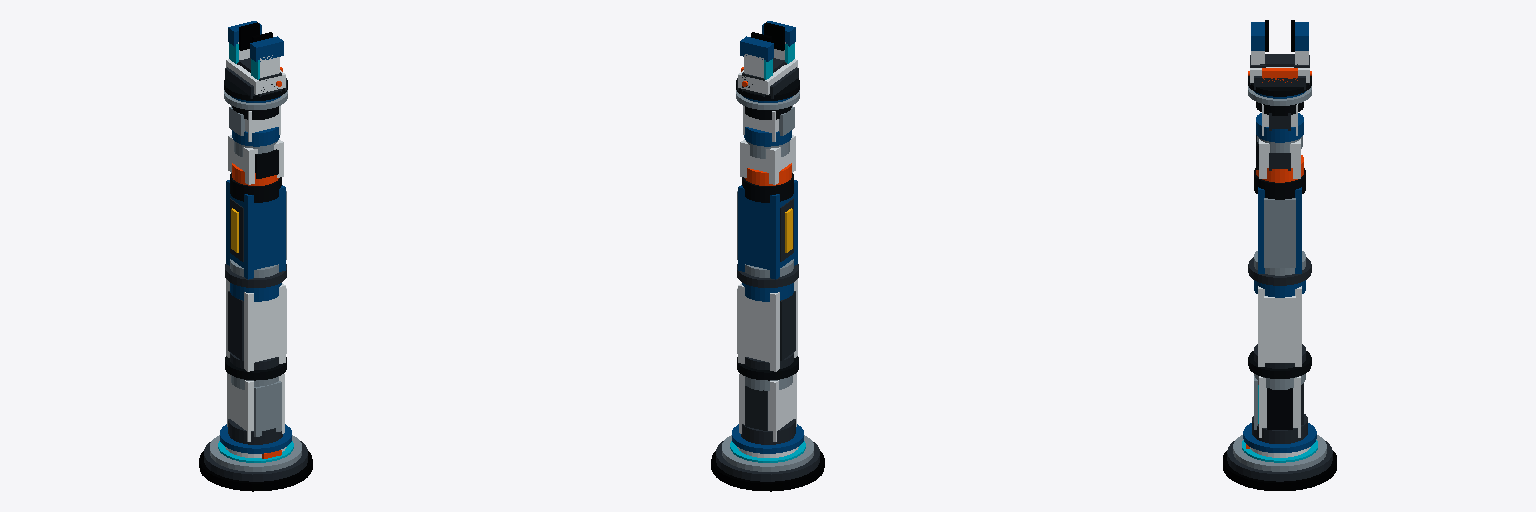
URDF robot description (marm):
<?xml version="1.0" ?>
<!-- =================================================================================== -->
<!-- |    This document was autogenerated by xacro from src/marm_description/urdf/marm.xacro | -->
<!-- |    EDITING THIS FILE BY HAND IS NOT RECOMMENDED                                 | -->
<!-- =================================================================================== -->
<robot name="marm">
  <!-- Industrial palette inspired by UR, Franka, OpenMANIPULATOR and KUKA. -->
  <material name="Graphite">
    <color rgba="0.055 0.070 0.085 1"/>
  </material>
  <material name="Gunmetal">
    <color rgba="0.16 0.19 0.22 1"/>
  </material>
  <material name="PearlWhite">
    <color rgba="0.88 0.91 0.93 1"/>
  </material>
  <material name="Aluminium">
    <color rgba="0.52 0.58 0.62 1"/>
  </material>
  <material name="OceanBlue">
    <color rgba="0.02 0.30 0.52 1"/>
  </material>
  <material name="ElectricCyan">
    <color rgba="0.00 0.72 0.82 1"/>
  </material>
  <material name="SafetyOrange">
    <color rgba="1.00 0.30 0.035 1"/>
  </material>
  <material name="SignalYellow">
    <color rgba="1.00 0.73 0.06 1"/>
  </material>
  <material name="RubberBlack">
    <color rgba="0.018 0.022 0.026 1"/>
  </material>
  <!-- /////////////////////////////////////   ARM BASE    ////////////////////////////////////////////// -->
  <link name="base_link">
    <visual>
      <origin rpy="0 0 0" xyz="0 0 -0.006"/>
      <geometry>
        <cylinder length="0.012" radius="0.078"/>
      </geometry>
      <material name="RubberBlack"/>
    </visual>
    <visual>
      <origin rpy="0 0 0" xyz="0 0 0.004"/>
      <geometry>
        <cylinder length="0.014" radius="0.072"/>
      </geometry>
      <material name="Gunmetal"/>
    </visual>
    <visual>
      <origin rpy="0 0 0" xyz="0 0 0.014"/>
      <geometry>
        <cylinder length="0.01" radius="0.064"/>
      </geometry>
      <material name="Aluminium"/>
    </visual>
    <visual>
      <origin rpy="0 0 0" xyz="0 0 0.020"/>
      <geometry>
        <cylinder length="0.004" radius="0.052"/>
      </geometry>
      <material name="ElectricCyan"/>
    </visual>
  </link>
  <joint name="base_joint" type="fixed">
    <origin rpy="0 0 0" xyz="0 0 0.02"/>
    <parent link="base_link"/>
    <child link="link0"/>
  </joint>
  <!-- /////////////////////////////////////    LINK0    ////////////////////////////////////////////// -->
  <link name="link0">
    <visual>
      <origin rpy="0 0 0" xyz="0 0 0"/>
      <geometry>
        <cylinder length="0.032" radius="0.043"/>
      </geometry>
      <material name="PearlWhite"/>
    </visual>
    <visual>
      <origin rpy="0 0 0" xyz="0 0 -0.016"/>
      <geometry>
        <cylinder length="0.008" radius="0.05"/>
      </geometry>
      <material name="Graphite"/>
    </visual>
    <visual>
      <origin rpy="0 0 0" xyz="0 0 0.016"/>
      <geometry>
        <cylinder length="0.008" radius="0.05"/>
      </geometry>
      <material name="OceanBlue"/>
    </visual>
    <visual>
      <origin rpy="0 0 0" xyz="0 -0.043 0"/>
      <geometry>
        <box size="0.028 0.006 0.020"/>
      </geometry>
      <material name="SafetyOrange"/>
    </visual>
    <visual>
      <origin rpy="0 0 0" xyz="0 0.030 0.004"/>
      <geometry>
        <box size="0.034 0.018 0.026"/>
      </geometry>
      <material name="Gunmetal"/>
    </visual>
    <visual>
      <origin rpy="0 0 0" xyz="0 0.030 0.018"/>
      <geometry>
        <box size="0.022 0.006 0.010"/>
      </geometry>
      <material name="Aluminium"/>
    </visual>
    <collision>
      <origin rpy="0 0 0" xyz="0 0 0"/>
      <geometry>
        <cylinder length="0.04" radius="0.05"/>
      </geometry>
    </collision>
    <cylinder_inertial_matrix h="0.04" m="1" r="0.05"/>
  </link>
  <joint name="joint1" type="revolute">
    <parent link="link0"/>
    <child link="link1"/>
    <origin rpy="0 1.570795 0" xyz="0 0 0.02"/>
    <axis xyz="-1 0 0"/>
    <limit effort="300" lower="-3.14159" upper="3.14159" velocity="1"/>
  </joint>
  <!-- /////////////////////////////////////   LINK1  ////////////////////////////////////////////// -->
  <link name="link1">
    <visual>
      <origin rpy="0 0 0" xyz="-0.05 0 0"/>
      <geometry>
        <box size="0.090 0.058 0.058"/>
      </geometry>
      <material name="PearlWhite"/>
    </visual>
    <visual>
      <origin rpy="0 1.570795 0" xyz="-0.010 0 0"/>
      <geometry>
        <cylinder length="0.02" radius="0.038"/>
      </geometry>
      <material name="Gunmetal"/>
    </visual>
    <visual>
      <origin rpy="0 1.570795 0" xyz="-0.090 0 0"/>
      <geometry>
        <cylinder length="0.02" radius="0.035"/>
      </geometry>
      <material name="Aluminium"/>
    </visual>
    <visual>
      <origin rpy="0 0 0" xyz="-0.05 -0.026 0.008"/>
      <geometry>
        <box size="0.058 0.008 0.018"/>
      </geometry>
      <material name="ElectricCyan"/>
    </visual>
    <visual>
      <origin rpy="0 0 0" xyz="-0.05 0.026 -0.008"/>
      <geometry>
        <box size="0.042 0.006 0.012"/>
      </geometry>
      <material name="SafetyOrange"/>
    </visual>
    <visual>
      <origin rpy="0 0 0" xyz="-0.05 0.030 0"/>
      <geometry>
        <box size="0.062 0.006 0.034"/>
      </geometry>
      <material name="Gunmetal"/>
    </visual>
    <visual>
      <origin rpy="0 0 0" xyz="-0.05 -0.033 0"/>
      <geometry>
        <box size="0.074 0.006 0.042"/>
      </geometry>
      <material name="Aluminium"/>
    </visual>
    <visual>
      <origin rpy="0 0 0" xyz="-0.050 0 0.030"/>
      <geometry>
        <box size="0.062 0.036 0.006"/>
      </geometry>
      <material name="Graphite"/>
    </visual>
    <collision>
      <origin rpy="0 1.570795 0" xyz="-0.05 0 0"/>
      <geometry>
        <cylinder length="0.1" radius="0.03"/>
      </geometry>
    </collision>
    <cylinder_inertial_matrix h="0.1" m="1" r="0.03"/>
  </link>
  <joint name="joint2" type="revolute">
    <parent link="link1"/>
    <child link="link2"/>
    <origin rpy="-1.570795 0 1.570795" xyz="-0.1 0 0.0"/>
    <axis xyz="1 0 0"/>
    <limit effort="300" lower="-3.14159" upper="3.14159" velocity="1"/>
  </joint>
  <!-- ///////////////////////////////////////   LINK2  ////////////////////////////////////////////// -->
  <link name="link2">
    <visual>
      <origin rpy="0 0 0" xyz="0 0 0.07"/>
      <geometry>
        <box size="0.060 0.060 0.118"/>
      </geometry>
      <material name="PearlWhite"/>
    </visual>
    <visual>
      <origin rpy="0 0 0" xyz="0 0 0.012"/>
      <geometry>
        <cylinder length="0.024" radius="0.036"/>
      </geometry>
      <material name="Gunmetal"/>
    </visual>
    <visual>
      <origin rpy="0 0 0" xyz="0 0 0.128"/>
      <geometry>
        <cylinder length="0.024" radius="0.036"/>
      </geometry>
      <material name="OceanBlue"/>
    </visual>
    <visual>
      <origin rpy="0 0 0" xyz="0 0 0.006"/>
      <geometry>
        <cylinder length="0.012" radius="0.043"/>
      </geometry>
      <material name="Graphite"/>
    </visual>
    <visual>
      <origin rpy="0 0 0" xyz="0 -0.027 0.07"/>
      <geometry>
        <box size="0.036 0.009 0.076"/>
      </geometry>
      <material name="Aluminium"/>
    </visual>
    <visual>
      <origin rpy="0 0 0" xyz="0 -0.033 0.07"/>
      <geometry>
        <box size="0.020 0.004 0.052"/>
      </geometry>
      <material name="SafetyOrange"/>
    </visual>
    <visual>
      <origin rpy="0 0 0" xyz="0 0.030 0.07"/>
      <geometry>
        <box size="0.038 0.006 0.090"/>
      </geometry>
      <material name="Gunmetal"/>
    </visual>
    <visual>
      <origin rpy="0 0 0" xyz="0 -0.034 0.07"/>
      <geometry>
        <box size="0.044 0.006 0.098"/>
      </geometry>
      <material name="PearlWhite"/>
    </visual>
    <visual>
      <origin rpy="0 0 0" xyz="0 0 0.13"/>
      <geometry>
        <box size="0.046 0.040 0.010"/>
      </geometry>
      <material name="Aluminium"/>
    </visual>
    <collision>
      <origin rpy="0 0 0" xyz="0 0 0.07"/>
      <geometry>
        <cylinder length="0.14" radius="0.03"/>
      </geometry>
    </collision>
    <cylinder_inertial_matrix h="0.14" m="0.8" r="0.03"/>
  </link>
  <joint name="joint3" type="revolute">
    <parent link="link2"/>
    <child link="link3"/>
    <origin rpy="0 3.14159 0" xyz="0 0 0.14"/>
    <axis xyz="-1 0 0"/>
    <limit effort="300" lower="-3.14159" upper="3.14159" velocity="1"/>
  </joint>
  <!-- /////////////////////////////////   LINK3  ///////////////////////////////////////////////////// -->
  <link name="link3">
    <visual>
      <origin rpy="0 0 0" xyz="0 0 -0.075"/>
      <geometry>
        <box size="0.060 0.060 0.126"/>
      </geometry>
      <material name="OceanBlue"/>
    </visual>
    <visual>
      <origin rpy="0 0 0" xyz="0 0 -0.012"/>
      <geometry>
        <cylinder length="0.024" radius="0.036"/>
      </geometry>
      <material name="Aluminium"/>
    </visual>
    <visual>
      <origin rpy="0 0 0" xyz="0 0 -0.138"/>
      <geometry>
        <cylinder length="0.024" radius="0.036"/>
      </geometry>
      <material name="Graphite"/>
    </visual>
    <visual>
      <origin rpy="0 0 0" xyz="0 0 -0.006"/>
      <geometry>
        <cylinder length="0.012" radius="0.043"/>
      </geometry>
      <material name="Gunmetal"/>
    </visual>
    <visual>
      <origin rpy="0 0 0" xyz="0 0.027 -0.075"/>
      <geometry>
        <box size="0.036 0.009 0.082"/>
      </geometry>
      <material name="Gunmetal"/>
    </visual>
    <visual>
      <origin rpy="0 0 0" xyz="0 0.033 -0.075"/>
      <geometry>
        <box size="0.018 0.004 0.060"/>
      </geometry>
      <material name="SignalYellow"/>
    </visual>
    <visual>
      <origin rpy="0 0 0" xyz="0 -0.030 -0.075"/>
      <geometry>
        <box size="0.038 0.006 0.094"/>
      </geometry>
      <material name="PearlWhite"/>
    </visual>
    <visual>
      <origin rpy="0 0 0" xyz="0 -0.034 -0.075"/>
      <geometry>
        <box size="0.044 0.006 0.102"/>
      </geometry>
      <material name="Aluminium"/>
    </visual>
    <visual>
      <origin rpy="0 0 0" xyz="0 0 -0.13999999999999999"/>
      <geometry>
        <box size="0.046 0.040 0.010"/>
      </geometry>
      <material name="Graphite"/>
    </visual>
    <collision>
      <origin rpy="0 0 0" xyz="0 0 -0.075"/>
      <geometry>
        <cylinder length="0.15" radius="0.03"/>
      </geometry>
    </collision>
    <cylinder_inertial_matrix h="0.15" m="0.8" r="0.03"/>
  </link>
  <joint name="joint4" type="revolute">
    <parent link="link3"/>
    <child link="link4"/>
    <origin rpy="0 1.570795 3.14159" xyz="0.0 0.0 -0.15"/>
    <axis xyz="1 0 0"/>
    <limit effort="300" lower="-3.14159" upper="3.14159" velocity="1"/>
  </joint>
  <!-- ///////////////////////////////////   LINK4  //////////////////////////////////////////////// -->
  <link name="link4">
    <visual>
      <origin rpy="0 0 0" xyz="0.03 0 0"/>
      <geometry>
        <box size="0.052 0.056 0.056"/>
      </geometry>
      <material name="PearlWhite"/>
    </visual>
    <visual>
      <origin rpy="0 1.570795 0" xyz="0.010 0 0"/>
      <geometry>
        <cylinder length="0.02" radius="0.033"/>
      </geometry>
      <material name="SafetyOrange"/>
    </visual>
    <visual>
      <origin rpy="0 1.570795 0" xyz="0.050 0 0"/>
      <geometry>
        <cylinder length="0.02" radius="0.031"/>
      </geometry>
      <material name="Aluminium"/>
    </visual>
    <visual>
      <origin rpy="0 0 0" xyz="0.03 -0.024 0"/>
      <geometry>
        <box size="0.026 0.006 0.018"/>
      </geometry>
      <material name="ElectricCyan"/>
    </visual>
    <visual>
      <origin rpy="0 0 0" xyz="0.03 0.028 0"/>
      <geometry>
        <box size="0.026 0.006 0.030"/>
      </geometry>
      <material name="Gunmetal"/>
    </visual>
    <visual>
      <origin rpy="0 0 0" xyz="0.03 0 -0.030"/>
      <geometry>
        <box size="0.036 0.034 0.006"/>
      </geometry>
      <material name="Graphite"/>
    </visual>
    <collision>
      <origin rpy="0 1.570795 0" xyz="0.03 0 0"/>
      <geometry>
        <cylinder length="0.06" radius="0.025"/>
      </geometry>
    </collision>
    <cylinder_inertial_matrix h="0.06" m="0.7" r="0.025"/>
  </link>
  <joint name="joint5" type="revolute">
    <parent link="link4"/>
    <child link="link5"/>
    <origin rpy="0 1.570795 0" xyz="0.06 0.0 0.0"/>
    <axis xyz="1 0 0"/>
    <limit effort="300" lower="-3.14159" upper="3.14159" velocity="1"/>
  </joint>
  <!-- //////////////////////////////////   LINK5  ///////////////////////////////////////////////// -->
  <link name="link5">
    <visual>
      <origin rpy="0 0 0" xyz="0 0 0.03"/>
      <geometry>
        <box size="0.050 0.050 0.046"/>
      </geometry>
      <material name="PearlWhite"/>
    </visual>
    <visual>
      <origin rpy="0 0 0" xyz="0 0 0.010"/>
      <geometry>
        <cylinder length="0.02" radius="0.033"/>
      </geometry>
      <material name="OceanBlue"/>
    </visual>
    <visual>
      <origin rpy="0 0 0" xyz="0 0 0.050"/>
      <geometry>
        <cylinder length="0.02" radius="0.033"/>
      </geometry>
      <material name="Graphite"/>
    </visual>
    <visual>
      <origin rpy="0 0 0" xyz="0 -0.025 0.03"/>
      <geometry>
        <box size="0.018 0.006 0.026"/>
      </geometry>
      <material name="SafetyOrange"/>
    </visual>
    <visual>
      <origin rpy="0 0 0" xyz="0 0.028 0.03"/>
      <geometry>
        <box size="0.030 0.006 0.026"/>
      </geometry>
      <material name="Gunmetal"/>
    </visual>
    <visual>
      <origin rpy="0 0 0" xyz="0 -0.030 0.03"/>
      <geometry>
        <box size="0.032 0.006 0.032"/>
      </geometry>
      <material name="Aluminium"/>
    </visual>
    <visual>
      <origin rpy="0 0 0" xyz="0 0 0.054"/>
      <geometry>
        <box size="0.042 0.040 0.008"/>
      </geometry>
      <material name="Graphite"/>
    </visual>
    <collision>
      <origin rpy="0 0 0" xyz="0 0 0.03 "/>
      <geometry>
        <cylinder length="0.06" radius="0.03"/>
      </geometry>
    </collision>
    <cylinder_inertial_matrix h="0.06" m="0.7" r="0.03"/>
  </link>
  <joint name="joint6" type="revolute">
    <parent link="link5"/>
    <child link="link6"/>
    <origin rpy="4.712384999999999 -1.570795 0" xyz="0 0 0.06"/>
    <axis xyz="1 0 0"/>
    <limit effort="300" lower="-6.28318" upper="6.28318" velocity="1"/>
  </joint>
  <!-- ////////////////////////////////   LINK6  ///////////////////////////////////////////////// -->
  <link name="link6">
    <visual>
      <origin rpy="0 1.570795 0" xyz="0.01 0 0"/>
      <geometry>
        <cylinder length="0.02" radius="0.038"/>
      </geometry>
      <material name="OceanBlue"/>
    </visual>
    <visual>
      <origin rpy="0 1.570795 0" xyz="0.004 0 0"/>
      <geometry>
        <cylinder length="0.008" radius="0.044"/>
      </geometry>
      <material name="Aluminium"/>
    </visual>
    <visual>
      <origin rpy="0 1.570795 0" xyz="0.018 0 0"/>
      <geometry>
        <cylinder length="0.008" radius="0.044"/>
      </geometry>
      <material name="Graphite"/>
    </visual>
    <visual>
      <origin rpy="0 0 0" xyz="0.027 0 0"/>
      <geometry>
        <box size="0.018 0.072 0.058"/>
      </geometry>
      <material name="Gunmetal"/>
    </visual>
    <visual>
      <origin rpy="0 0 0" xyz="0.037 0 0.025"/>
      <geometry>
        <box size="0.018 0.050 0.008"/>
      </geometry>
      <material name="SafetyOrange"/>
    </visual>
    <visual>
      <origin rpy="0 0 0" xyz="0.035 0 0"/>
      <geometry>
        <box size="0.020 0.082 0.048"/>
      </geometry>
      <material name="PearlWhite"/>
    </visual>
    <visual>
      <origin rpy="0 0 0" xyz="0.046 0 0"/>
      <geometry>
        <box size="0.008 0.054 0.032"/>
      </geometry>
      <material name="Gunmetal"/>
    </visual>
    <collision>
      <origin rpy="0 1.570795 0" xyz="0.01 0 0"/>
      <geometry>
        <cylinder length="0.02" radius="0.04"/>
      </geometry>
    </collision>
    <cylinder_inertial_matrix h="0.02" m="0.6" r="0.04"/>
  </link>
  <joint name="finger_joint1" type="prismatic">
    <parent link="link6"/>
    <child link="gripper_finger_link1"/>
    <origin rpy="0 0 0" xyz="0.02 -0.03 0"/>
    <axis xyz="0 1 0"/>
    <limit effort="100" lower="0" upper="0.06" velocity="0.02"/>
  </joint>
  <!-- //////////////////////////////////////   gripper   ////////////////////////////////////////////// -->
  <!-- LEFT GRIPPER AFT LINK -->
  <link name="gripper_finger_link1">
    <visual>
      <origin rpy="0 0 0" xyz="0.014 0 0"/>
      <geometry>
        <box size="0.028 0.022 0.036"/>
      </geometry>
      <material name="Gunmetal"/>
    </visual>
    <visual>
      <origin rpy="0 0 0" xyz="0.041 0 0"/>
      <geometry>
        <box size="0.034 0.018 0.032"/>
      </geometry>
      <material name="PearlWhite"/>
    </visual>
    <visual>
      <origin rpy="0 0 0" xyz="0.064 0 0"/>
      <geometry>
        <box size="0.022 0.018 0.044"/>
      </geometry>
      <material name="OceanBlue"/>
    </visual>
    <visual>
      <origin rpy="0 0 0" xyz="0.064 0.012 0"/>
      <geometry>
        <box size="0.034 0.006 0.030"/>
      </geometry>
      <material name="RubberBlack"/>
    </visual>
    <visual>
      <origin rpy="0 0 0" xyz="0.041 0 -0.018"/>
      <geometry>
        <box size="0.030 0.020 0.004"/>
      </geometry>
      <material name="ElectricCyan"/>
    </visual>
    <visual>
      <origin rpy="1.570795 0 0" xyz="0.014 -0.012 0.012"/>
      <geometry>
        <cylinder length="0.004" radius="0.004"/>
      </geometry>
      <material name="SafetyOrange"/>
    </visual>
    <collision>
      <origin rpy="0 1.570795 0" xyz="0.03 0 0"/>
      <geometry>
        <box size="0.03 0.01 0.06"/>
      </geometry>
    </collision>
    <box_inertial_matrix d="0.03" h="0.06" m="0.5" w="0.01"/>
  </link>
  <joint name="finger_joint2" type="fixed">
    <parent link="link6"/>
    <child link="gripper_finger_link2"/>
    <origin rpy="0 0 0" xyz="0.02 0.03 0"/>
  </joint>
  <!-- RIGHT GRIPPER AFT LINK -->
  <link name="gripper_finger_link2">
    <visual>
      <origin rpy="0 0 0" xyz="0.014 0 0"/>
      <geometry>
        <box size="0.028 0.022 0.036"/>
      </geometry>
      <material name="Gunmetal"/>
    </visual>
    <visual>
      <origin rpy="0 0 0" xyz="0.041 0 0"/>
      <geometry>
        <box size="0.034 0.018 0.032"/>
      </geometry>
      <material name="PearlWhite"/>
    </visual>
    <visual>
      <origin rpy="0 0 0" xyz="0.064 0 0"/>
      <geometry>
        <box size="0.022 0.018 0.044"/>
      </geometry>
      <material name="OceanBlue"/>
    </visual>
    <visual>
      <origin rpy="0 0 0" xyz="0.064 -0.012 0"/>
      <geometry>
        <box size="0.034 0.006 0.030"/>
      </geometry>
      <material name="RubberBlack"/>
    </visual>
    <visual>
      <origin rpy="0 0 0" xyz="0.041 0 -0.018"/>
      <geometry>
        <box size="0.030 0.020 0.004"/>
      </geometry>
      <material name="ElectricCyan"/>
    </visual>
    <visual>
      <origin rpy="1.570795 0 0" xyz="0.014 0.012 0.012"/>
      <geometry>
        <cylinder length="0.004" radius="0.004"/>
      </geometry>
      <material name="SafetyOrange"/>
    </visual>
    <collision>
      <origin rpy="0 1.570795 0" xyz="0.03 0 0"/>
      <geometry>
        <box size="0.03 0.01 0.06"/>
      </geometry>
    </collision>
    <box_inertial_matrix d="0.03" h="0.06" m="0.5" w="0.01"/>
  </link>
  <!-- Grasping frame -->
  <link name="grasping_frame"/>
  <joint name="grasping_frame_joint" type="fixed">
    <parent link="link6"/>
    <child link="grasping_frame"/>
    <origin rpy="0 0 0" xyz="0.06 0 0"/>
  </joint>
</robot>

--- Render facts (derived) ---
Views: 3 orthographic renders of the robot side by side, from view 1: azimuth 30°, elevation 25°; view 2: azimuth 150°, elevation 25°; view 3: azimuth 270°, elevation 25°.
Model marm with 11 links and 10 joints (6 revolute, 1 prismatic, 3 fixed), rooted at base_link, posed all joints at 0.
Visible links, largest first — view 1: link3, link2, base_link, link1, link6, link4, link5, gripper_finger_link2, link0, gripper_finger_link1; view 2: link3, link2, base_link, link1, link6, link4, link5, gripper_finger_link1, link0, gripper_finger_link2; view 3: link3, link2, base_link, link1, link6, link4, link5, link0, gripper_finger_link1, gripper_finger_link2.
Boxes of the visible links, x1,y1,x2,y2 form: link3: [225, 173, 286, 287]; link2: [225, 279, 286, 380]; base_link: [199, 435, 312, 491]; link1: [227, 373, 284, 444]; link6: [224, 58, 287, 109]; link4: [228, 135, 283, 185]; link5: [229, 106, 280, 146]; gripper_finger_link2: [250, 32, 283, 96]; link0: [220, 424, 291, 458]; gripper_finger_link1: [228, 21, 261, 64]; link3: [737, 173, 798, 287]; link2: [737, 279, 798, 380]; base_link: [711, 435, 824, 491]; link1: [739, 373, 796, 444]; link6: [736, 58, 799, 109]; link4: [740, 135, 795, 185]; link5: [743, 106, 794, 146]; gripper_finger_link1: [740, 32, 773, 96]; link0: [732, 424, 803, 457]; gripper_finger_link2: [762, 21, 795, 64]; link3: [1248, 168, 1311, 285]; link2: [1248, 280, 1311, 378]; base_link: [1223, 435, 1336, 490]; link1: [1252, 374, 1307, 443]; link6: [1248, 54, 1311, 105]; link4: [1256, 135, 1303, 182]; link5: [1256, 102, 1303, 142]; link0: [1243, 423, 1316, 457]; gripper_finger_link1: [1291, 20, 1311, 84]; gripper_finger_link2: [1248, 20, 1268, 84].
Bounding box of the posed robot: 0.156 × 0.156 × 0.663 m (x, y, z).
Geometry: primitives only (box / cylinder / sphere), no mesh files.
